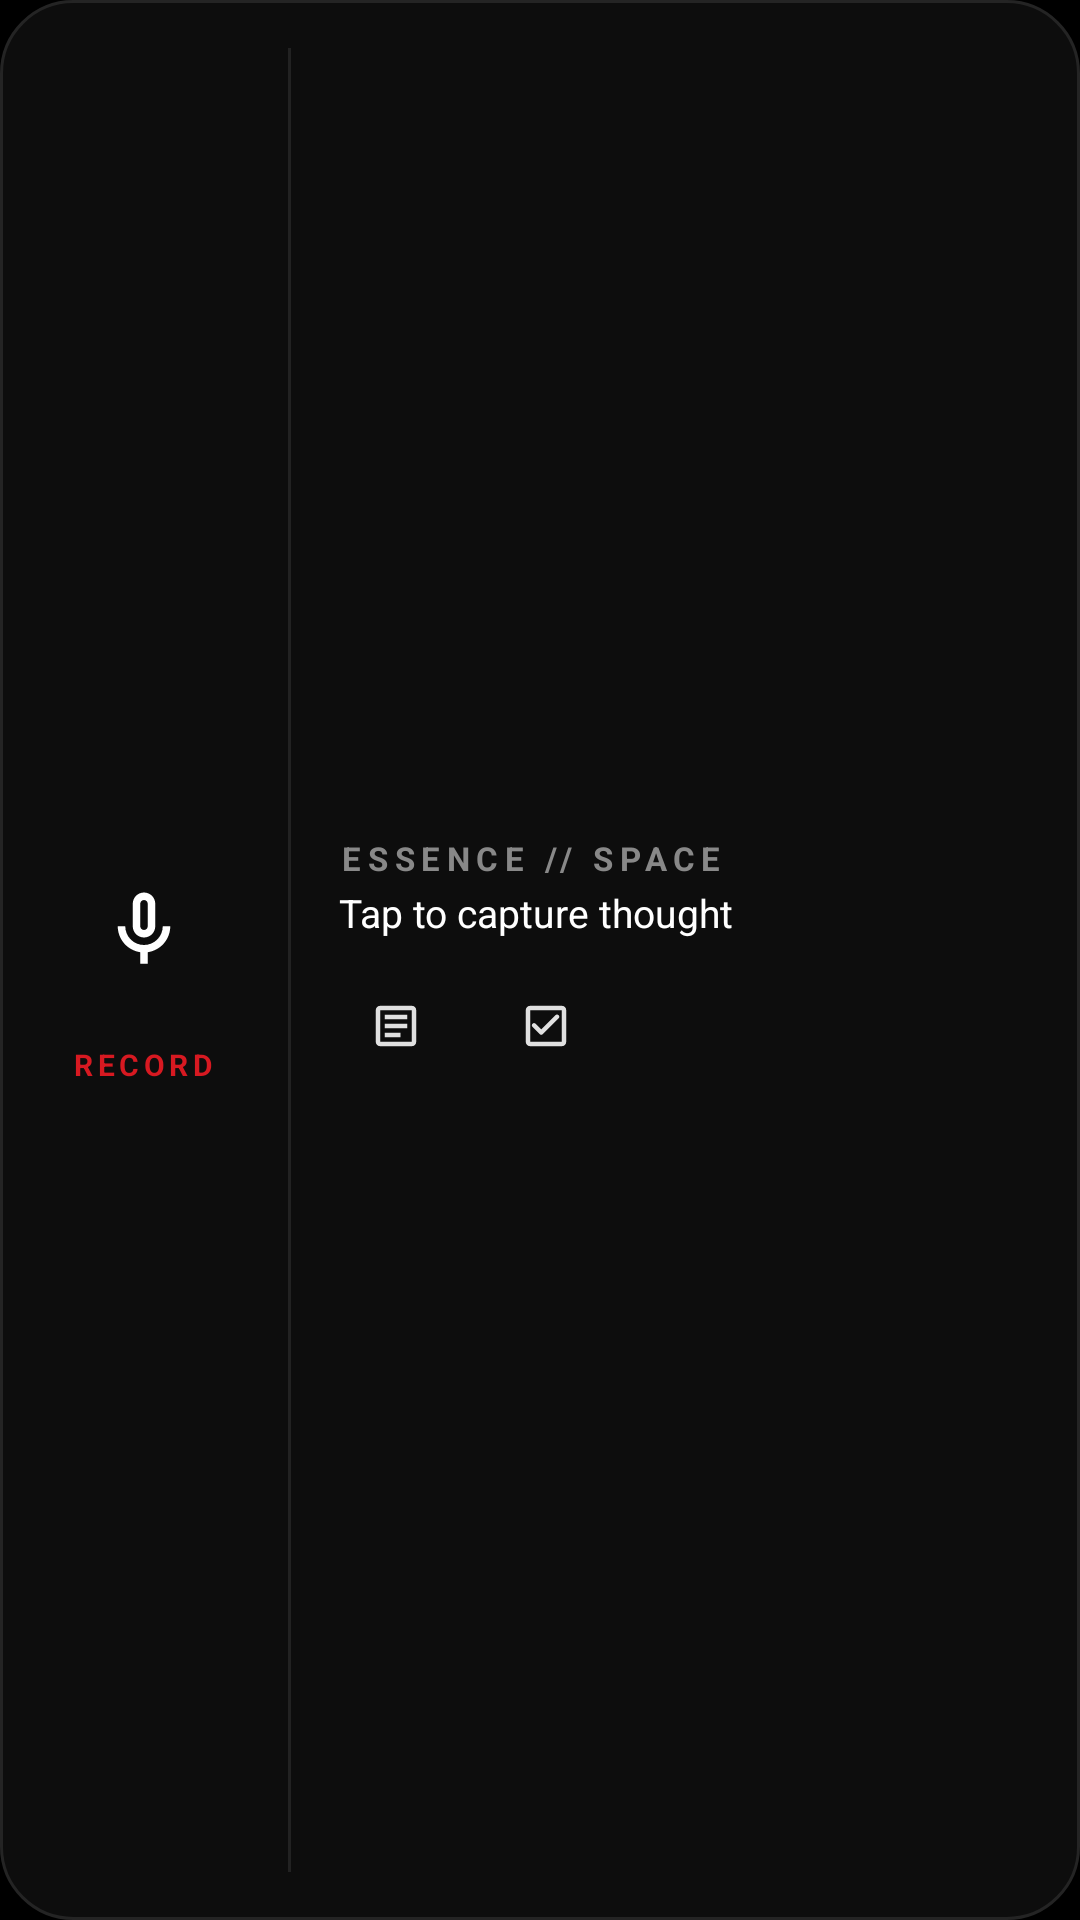

Where to tap for icons on this 1080×1920 app screen, as [x,y]:
New Note: [396,1026]
New Task: [546,1026]
